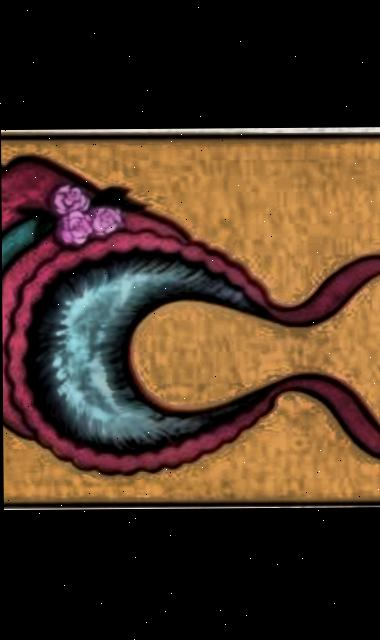El Gorrito: (1, 136, 380, 510)
